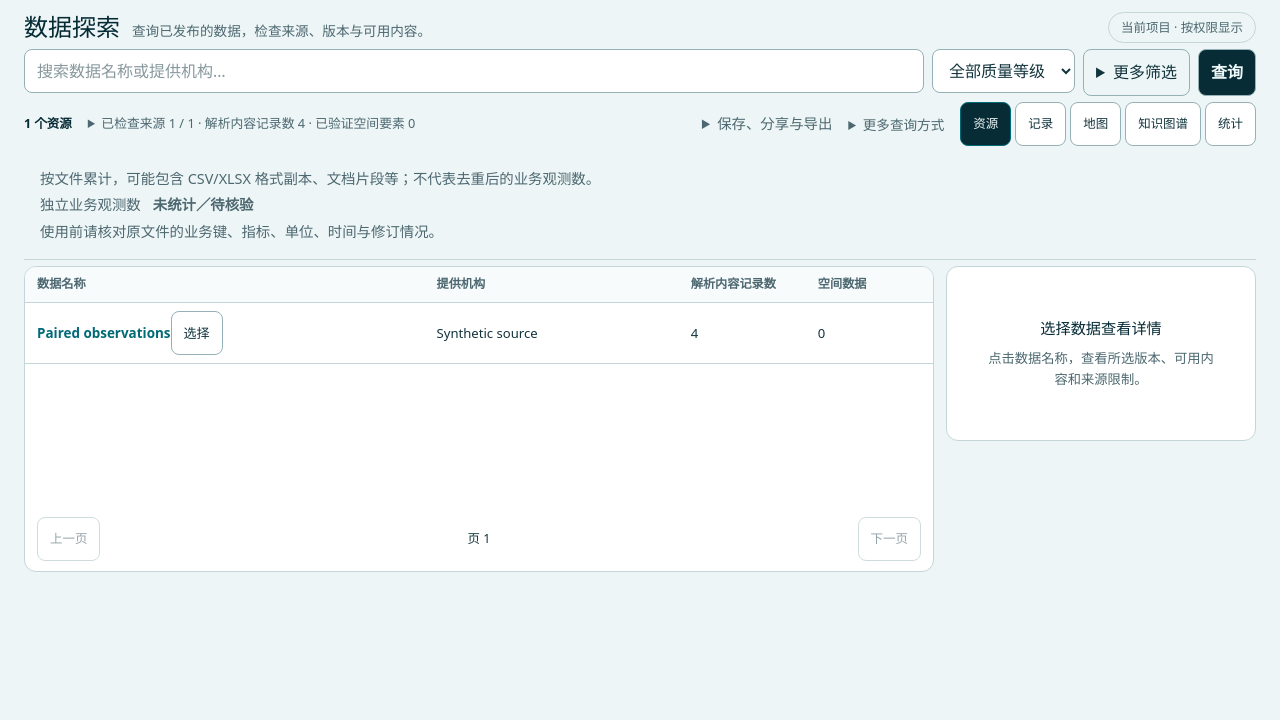
it: distinguishes parsed counts from unknown observations in zh-CN
Expected: the column heading "解析内容记录数" is shown, [679, 267, 806, 302]
Expected: the text "按文件累计，可能包含 CSV/XLSX 格式副本、文档片段等；不代表去重后的业务观测数。" is shown, [40, 169, 600, 188]
Click the button with aria-label "Paired observations" at (197, 333), box [170, 311, 223, 355]
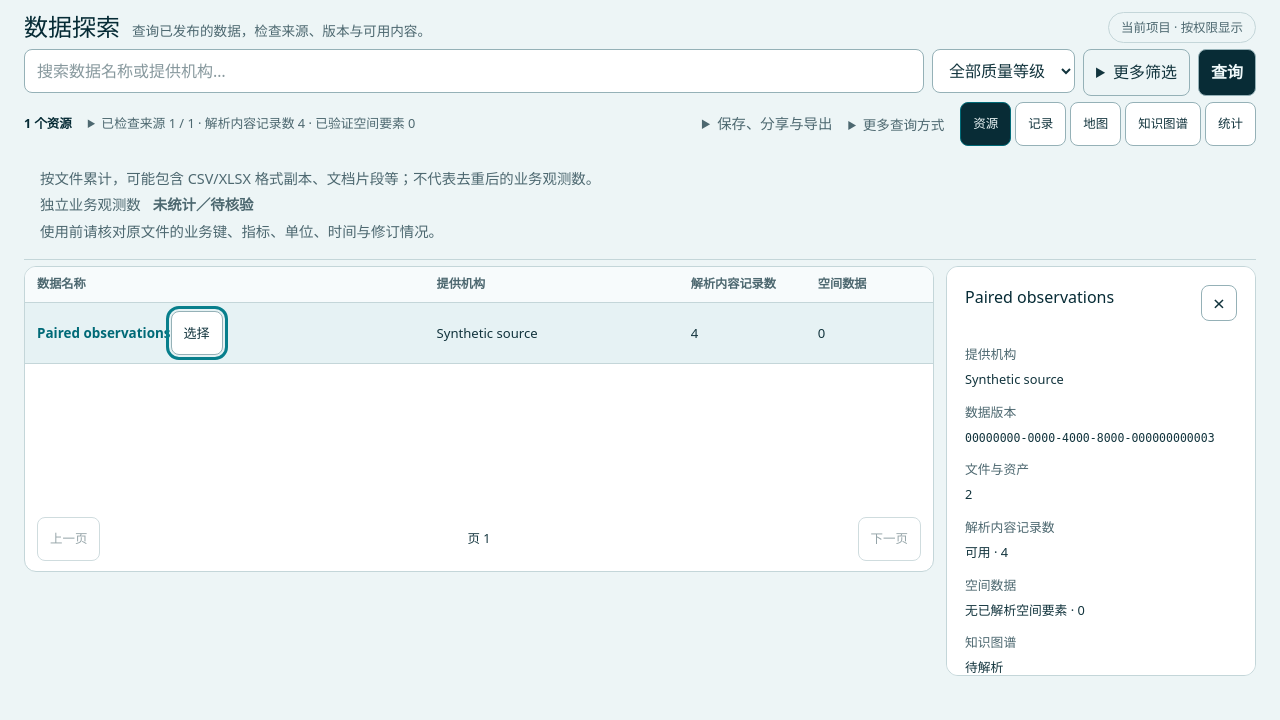
Now the text "2" is shown, box [965, 485, 972, 503]
